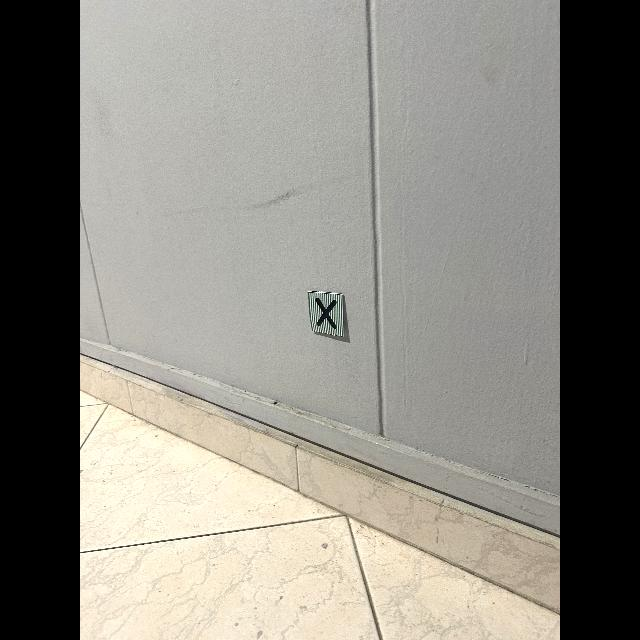X: (315, 298, 337, 329)
